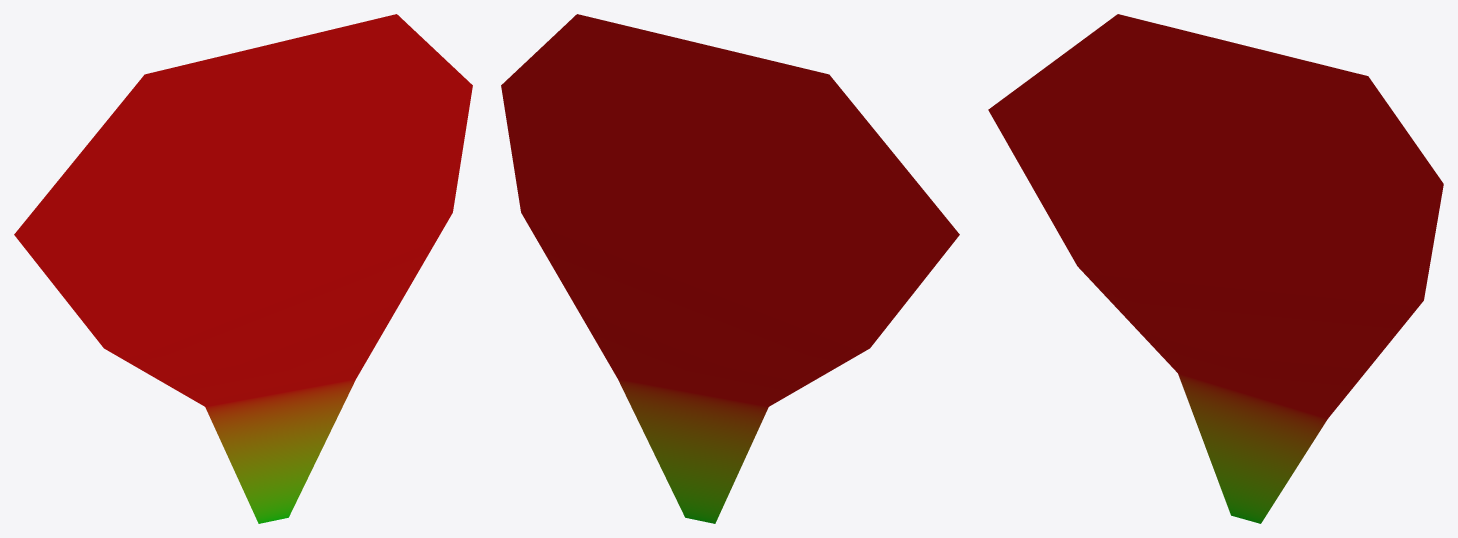
File: European Spindle_LOD4_Var15.fbx
3 views of the same model, side by side, from view 1: azimuth 30°, elevation 25°; view 2: azimuth 150°, elevation 25°; view 3: azimuth 330°, elevation 25° (orthographic).
Parts seen in each view (by area): view 1: _oqnx_Var15_LOD4; view 2: _oqnx_Var15_LOD4; view 3: _oqnx_Var15_LOD4.
Part boxes in pixels (box(x1,y1,x2,y2)): _oqnx_Var15_LOD4: box(14, 14, 472, 523); _oqnx_Var15_LOD4: box(501, 14, 959, 523); _oqnx_Var15_LOD4: box(988, 14, 1443, 523).
Size of the model in its own units: 276 by 275 by 1.16e-10.
